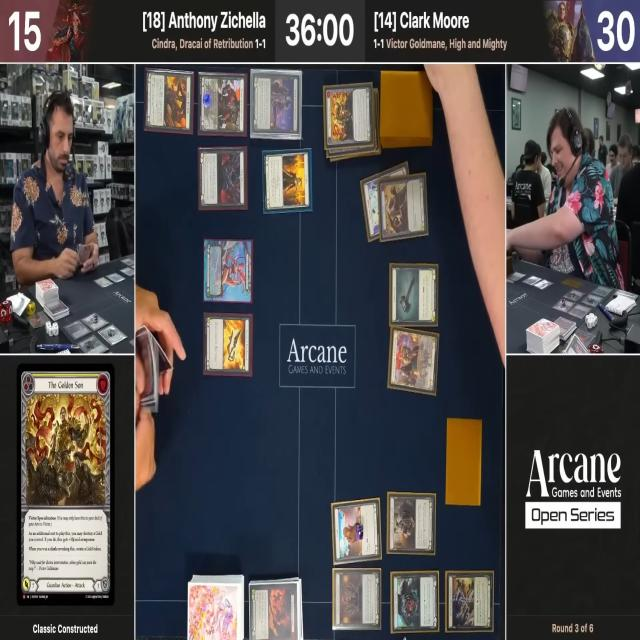DTD221: (332, 567, 382, 632)
ELE202: (389, 263, 439, 327)
HER144: (203, 238, 253, 304)
HNT056: (203, 312, 254, 376)
HNT143: (144, 66, 194, 138)
HNT167: (262, 146, 313, 214)
HNT168: (197, 70, 248, 136)
HNT215: (444, 569, 494, 634)
HVY047: (386, 326, 441, 398)
HVY053: (387, 492, 436, 556)
HVY059: (323, 83, 374, 151)
HVY079: (377, 171, 430, 243)
HVY243: (330, 496, 382, 564)
OUT139: (196, 145, 249, 210)
UPR075: (249, 581, 300, 640)
WTR041: (390, 569, 440, 634)
WTR075: (360, 160, 410, 243)
WTR079: (250, 70, 303, 142)
